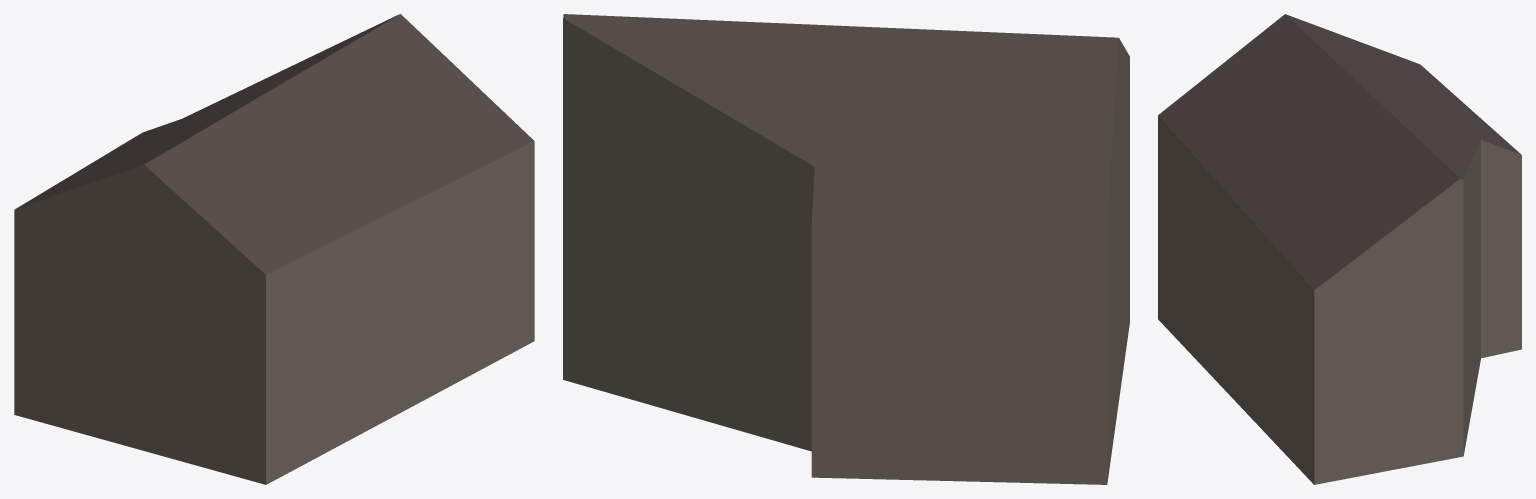
The picture shows the model from 3 angles, left to right: view 1: azimuth 30°, elevation 25°; view 2: azimuth 150°, elevation 25°; view 3: azimuth 270°, elevation 25°; orthographic projection. The views are drawn at different scales.
Parts seen in each view (by area): view 1: HP-w1203860018; view 2: HP-w1203860018; view 3: HP-w1203860018.
Boxes of the visible parts, box(x1,y1,x2,y2) form: HP-w1203860018: box(14, 14, 534, 484); HP-w1203860018: box(563, 14, 1129, 484); HP-w1203860018: box(1158, 14, 1521, 484).
Bounding box in the file's own units: 21.93 × 12.88 × 15.25.
